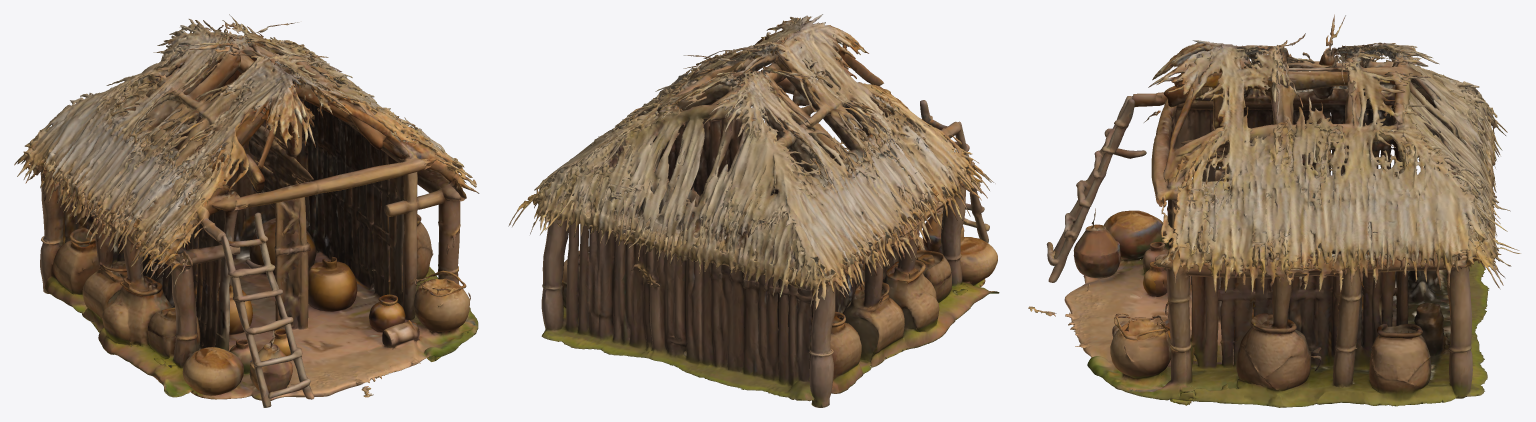
The model's file is A_realistic_low_poly_prehistoric_granary_20250319.glb.
The picture shows the model from 3 angles, left to right: view 1: azimuth 30°, elevation 25°; view 2: azimuth 150°, elevation 25°; view 3: azimuth 270°, elevation 25°; orthographic projection. The views are drawn at different scales.
Bounding box in the file's own units: 1.6 × 1.24 × 1.93.
Materials: 1 (1 with a texture image).
